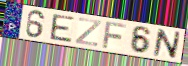6: (128, 25, 154, 55), (24, 10, 47, 39)
E: (50, 14, 76, 44)
F: (102, 20, 129, 50)
N: (151, 28, 182, 61)
Z: (74, 17, 103, 48)
